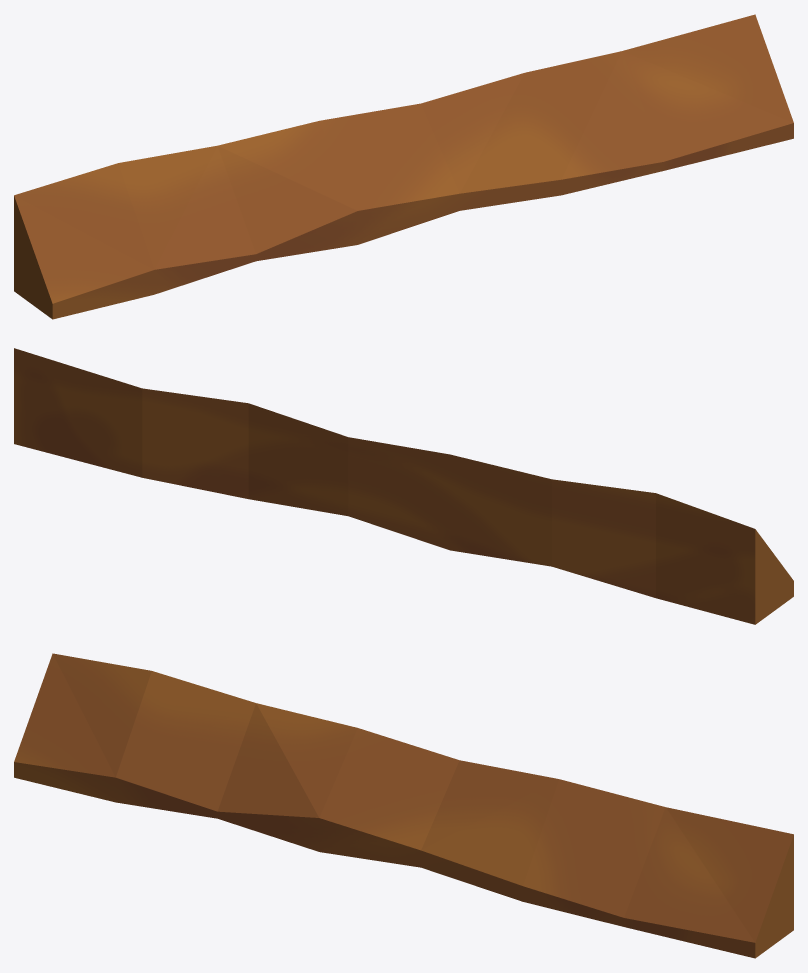
Rendered from RW Pillers 8.fbx.
The picture shows the model from 3 angles, top to bottom: view 1: azimuth 30°, elevation 25°; view 2: azimuth 150°, elevation 25°; view 3: azimuth 330°, elevation 25°; orthographic projection.
Visible parts, largest first — view 1: RW Pillers 8; view 2: RW Pillers 8; view 3: RW Pillers 8.
Part boxes in pixels (left/top/right/bottom): RW Pillers 8: left=14, top=14, right=793, bottom=319; RW Pillers 8: left=14, top=348, right=793, bottom=624; RW Pillers 8: left=14, top=653, right=793, bottom=958.
Size of the model in its own units: 284 by 38.54 by 27.69.
1 material, 1 textured.
